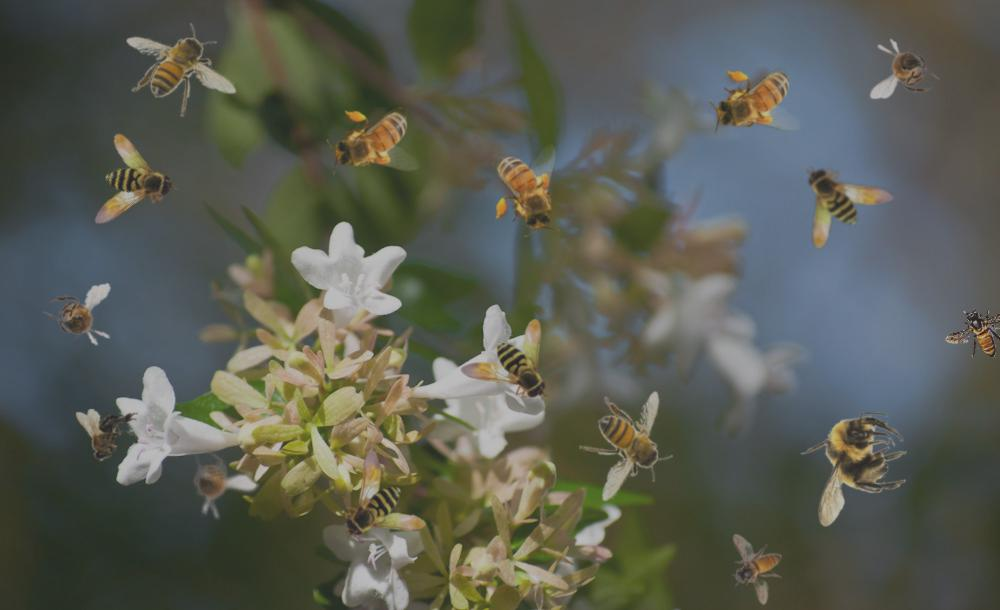Bee: (60, 126, 182, 246), (800, 412, 907, 527), (126, 23, 237, 117), (579, 391, 673, 502), (167, 437, 260, 531), (341, 449, 425, 539), (806, 166, 894, 248), (460, 319, 548, 401), (709, 67, 802, 135), (327, 107, 420, 175), (492, 144, 560, 237), (40, 282, 119, 354), (870, 38, 940, 99), (732, 534, 782, 605), (76, 409, 138, 462), (945, 308, 1000, 358)
